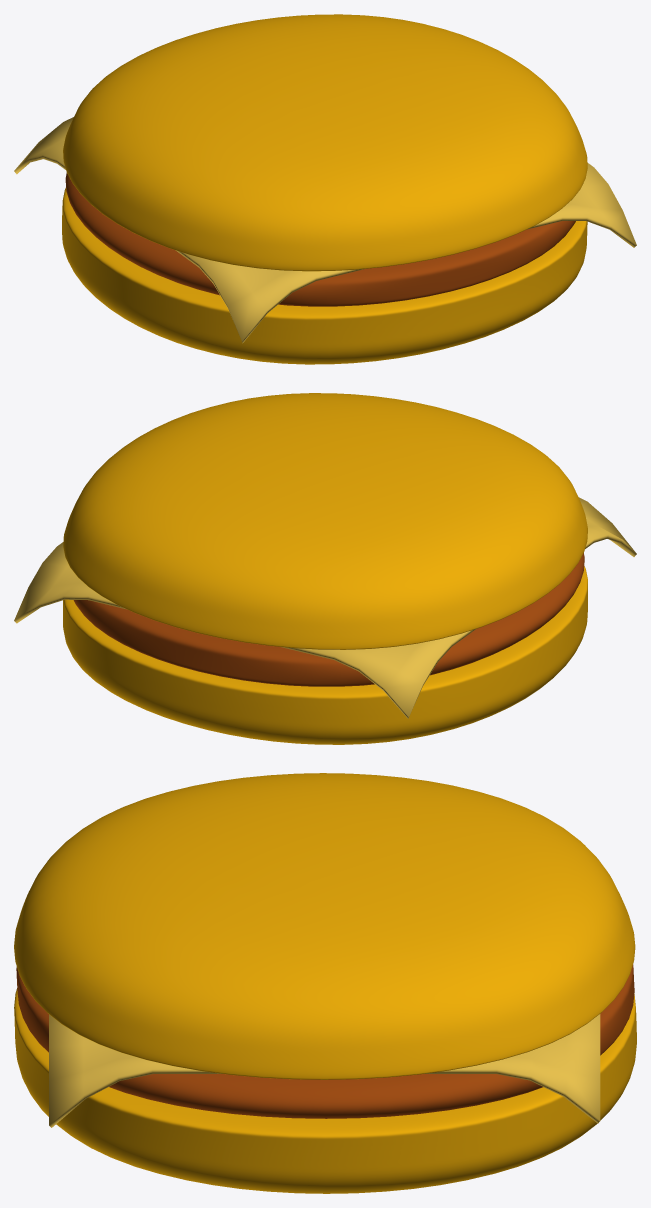
The model's file is hamburger.glb.
3 renders of one model, top to bottom at view 1: azimuth 30°, elevation 25°; view 2: azimuth 150°, elevation 25°; view 3: azimuth 270°, elevation 25°, orthographic. The views are drawn at different scales.
Parts seen in each view (by area): view 1: Cube.002, Cube, Cube.001, Plane; view 2: Cube.002, Cube, Cube.001, Plane; view 3: Cube.002, Cube, Cube.001, Plane.
Part boxes in pixels (x1=…): Cube.002: x1=63, y1=14, x2=587, y2=271; Cube: x1=62, y1=188, x2=587, y2=364; Cube.001: x1=65, y1=172, x2=575, y2=306; Plane: x1=14, y1=117, x2=636, y2=343; Cube.002: x1=63, y1=393, x2=587, y2=649; Cube: x1=63, y1=566, x2=587, y2=744; Cube.001: x1=73, y1=553, x2=584, y2=686; Plane: x1=14, y1=497, x2=636, y2=718; Cube.002: x1=14, y1=773, x2=635, y2=1079; Cube: x1=14, y1=988, x2=636, y2=1193; Cube.001: x1=16, y1=964, x2=634, y2=1118; Plane: x1=49, y1=1014, x2=600, y2=1127.
Bounding box in the file's own units: 9.18 × 4 × 9.19.
